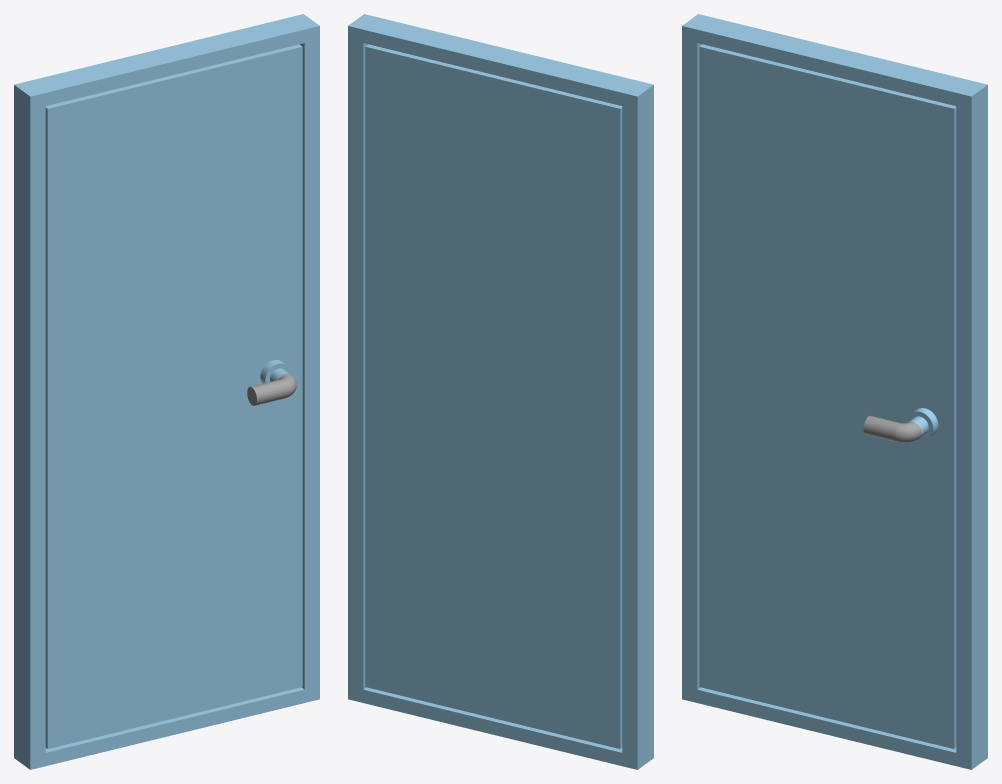
File: door.fbx
3 renders of one model, left to right at view 1: azimuth 30°, elevation 25°; view 2: azimuth 150°, elevation 25°; view 3: azimuth 330°, elevation 25°, orthographic.
Parts seen in each view (by area): view 1: ID19, ID11, 5bc86ca561dd7b178fa57e55; view 2: ID19, ID11; view 3: ID19, ID11, 5bc86ca561dd7b178fa57e55.
Boxes of the visible parts, x1=… form: ID19: x1=45, y1=44, x2=302, y2=748; ID11: x1=14, y1=14, x2=319, y2=769; 5bc86ca561dd7b178fa57e55: x1=247, y1=373, x2=296, y2=405; ID19: x1=365, y1=44, x2=622, y2=748; ID11: x1=348, y1=14, x2=653, y2=769; ID19: x1=699, y1=44, x2=956, y2=748; ID11: x1=682, y1=14, x2=987, y2=769; 5bc86ca561dd7b178fa57e55: x1=863, y1=415, x2=921, y2=442.
Size of the model in its own units: 0.0512 by 0.0119 by 0.1138.
